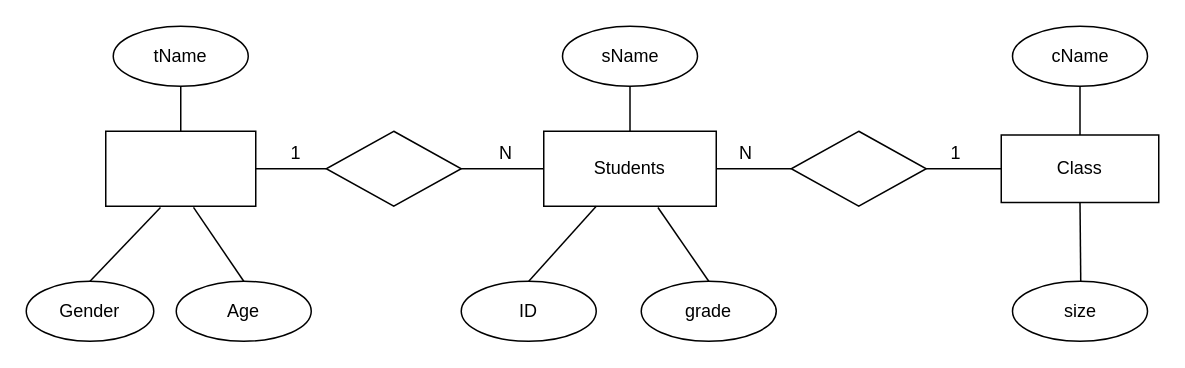
This 1185x368 diagram has some shape labels left out. Each missing label, with the centre of its shape:
"study-in" goes at [858,168].
"teach" goes at [393,168].
"teachers" goes at [180,168].
